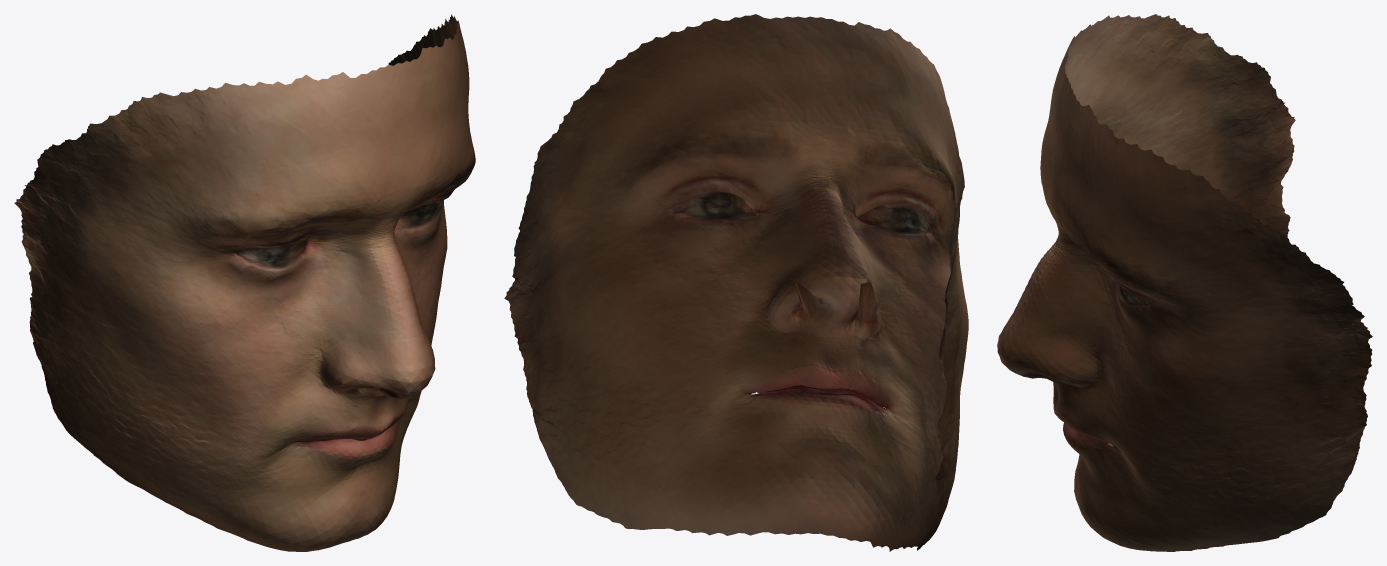
3 views of the same model, side by side, from view 1: azimuth 30°, elevation 25°; view 2: azimuth 150°, elevation 25°; view 3: azimuth 270°, elevation 25° (orthographic). The views are drawn at different scales.
Bounding box in the file's own units: 1.49 × 1.73 × 1.25.
